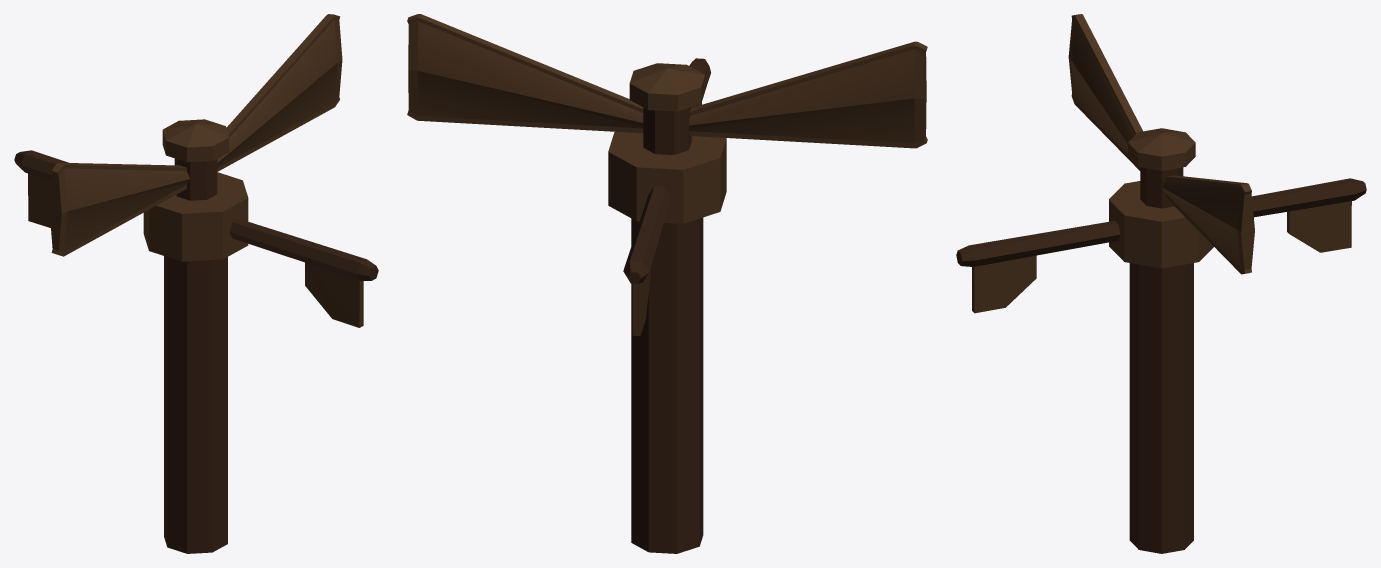
Rendered from Tribal_Plains_Windmill_Grain_Sail_Pole_Timber_01.fbx.
3 renders of one model, left to right at view 1: azimuth 30°, elevation 25°; view 2: azimuth 150°, elevation 25°; view 3: azimuth 270°, elevation 25°, orthographic. The views are drawn at different scales.
Parts seen in each view (by area): view 1: Tribal_Plains_Windmill_Grain_Sail_Pole_Timber_01; view 2: Tribal_Plains_Windmill_Grain_Sail_Pole_Timber_01; view 3: Tribal_Plains_Windmill_Grain_Sail_Pole_Timber_01.
Part boxes in pixels (x1,y1,x2,y2): Tribal_Plains_Windmill_Grain_Sail_Pole_Timber_01: (14, 14, 378, 553); Tribal_Plains_Windmill_Grain_Sail_Pole_Timber_01: (407, 14, 927, 553); Tribal_Plains_Windmill_Grain_Sail_Pole_Timber_01: (956, 14, 1366, 553).
Bounding box in the file's own units: 4.4 × 5.06 × 4.27.
